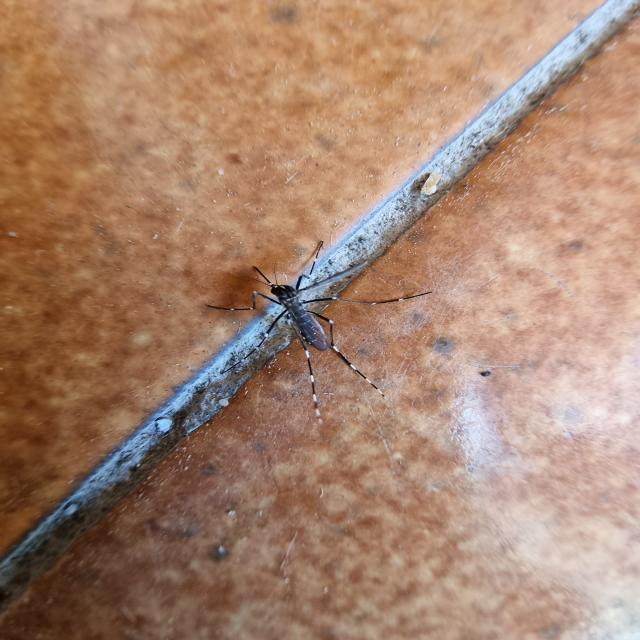albopictus: (204, 214, 432, 414)
